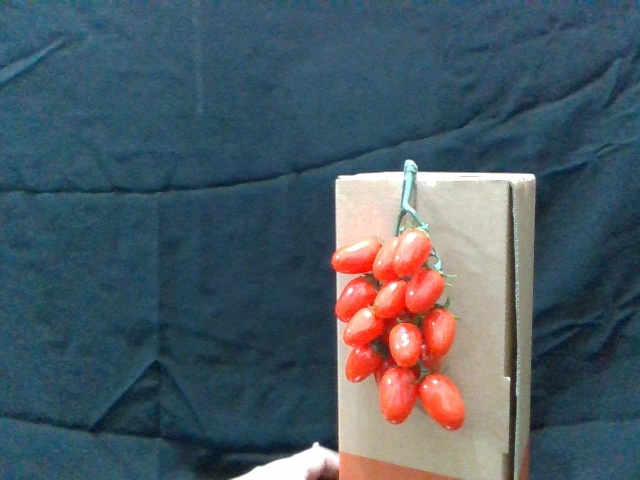tomato: (418, 371, 468, 432), (380, 367, 421, 425), (331, 239, 384, 276), (389, 319, 425, 372), (335, 277, 378, 320), (423, 309, 457, 363), (407, 270, 447, 314), (396, 229, 434, 275), (344, 306, 384, 348), (376, 279, 409, 322), (344, 346, 382, 383)
